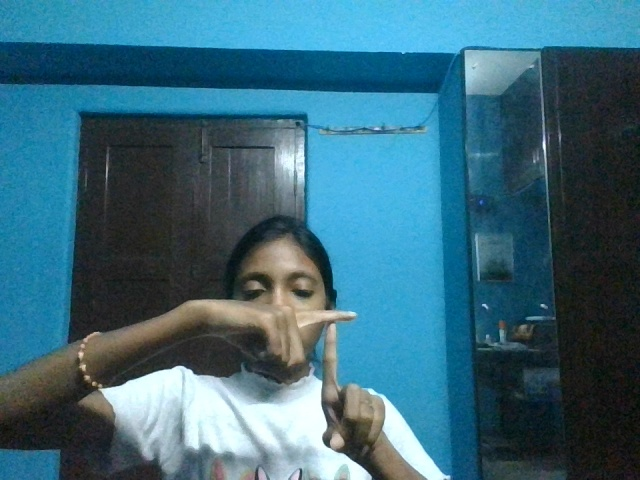T: (180, 294, 392, 467)
